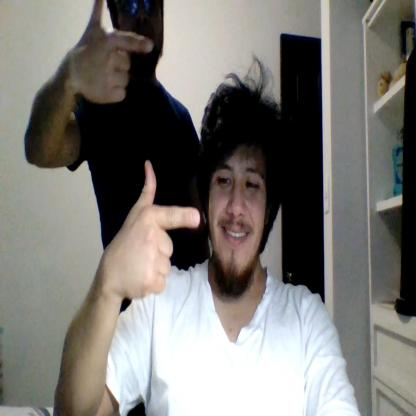G: (117, 160, 200, 299), (77, 0, 153, 104)
